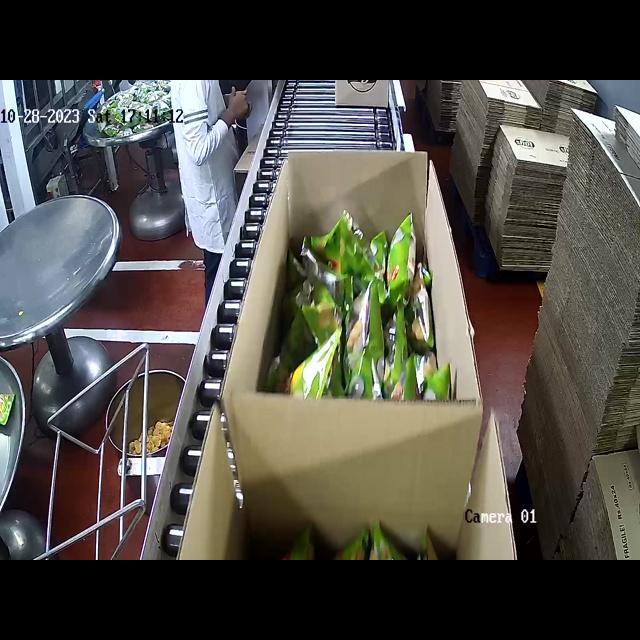yogurt: (265, 208, 451, 401)
